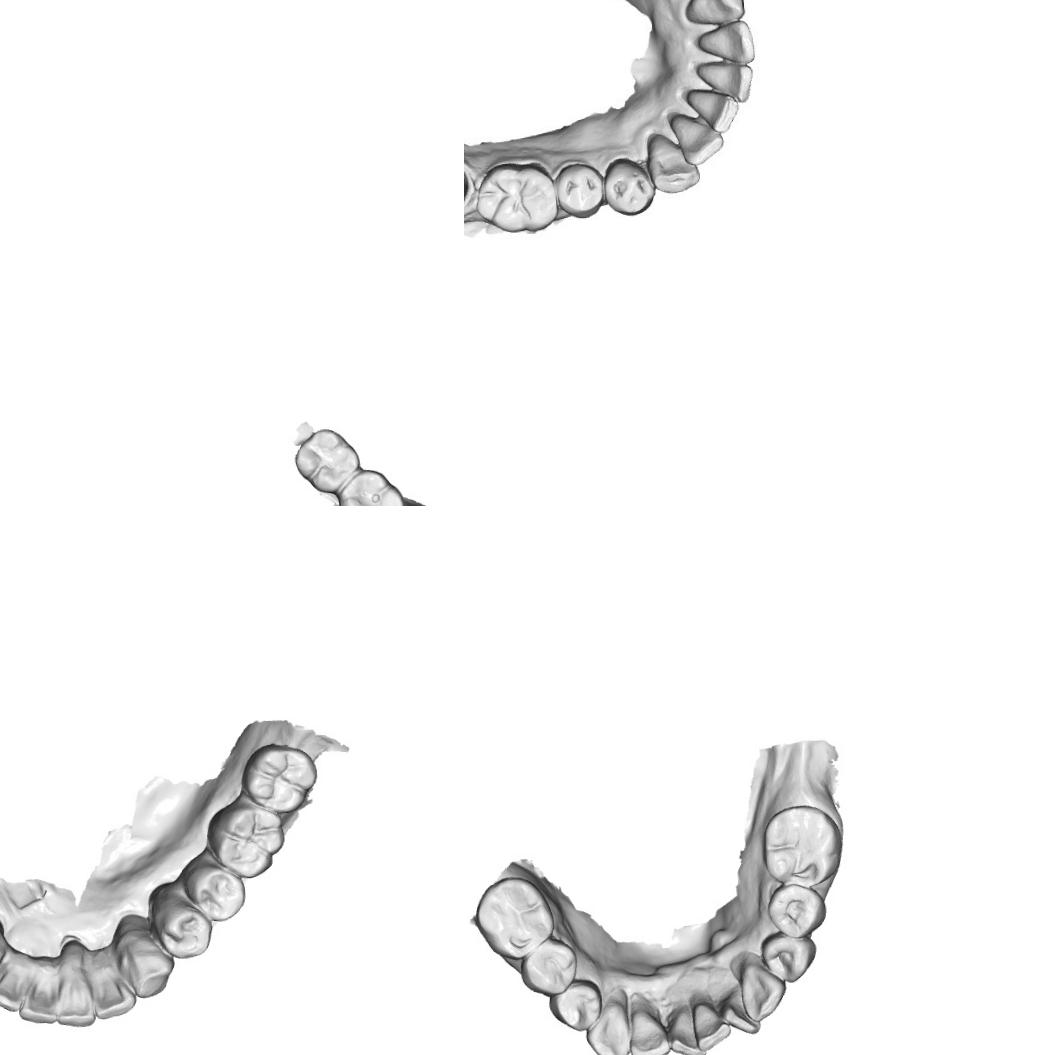canine: (119, 933, 178, 1001), (736, 960, 788, 1025), (645, 134, 698, 192), (582, 998, 631, 1055), (682, 0, 745, 32)
incisor: (49, 954, 97, 1030), (84, 960, 136, 1020), (15, 962, 62, 1028), (700, 20, 753, 71), (691, 990, 732, 1054), (672, 114, 724, 164), (696, 57, 752, 102), (625, 1002, 671, 1055), (665, 998, 706, 1055), (690, 89, 737, 136), (720, 984, 761, 1037), (0, 955, 34, 1016)
molar: (470, 872, 557, 963), (758, 801, 843, 891), (473, 156, 559, 236), (204, 802, 287, 881), (236, 740, 320, 816), (291, 426, 361, 497), (335, 465, 407, 506)
premolar: (182, 859, 248, 924), (150, 898, 215, 963), (516, 936, 579, 999), (763, 882, 830, 940), (758, 928, 820, 986), (545, 977, 604, 1036), (554, 162, 602, 221), (603, 158, 652, 212)
